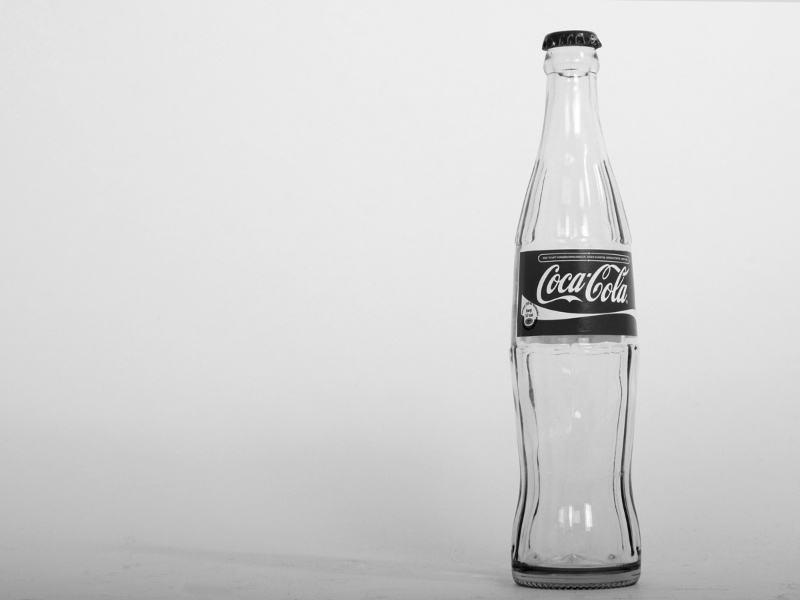Glass bottle: (470, 13, 688, 600)
